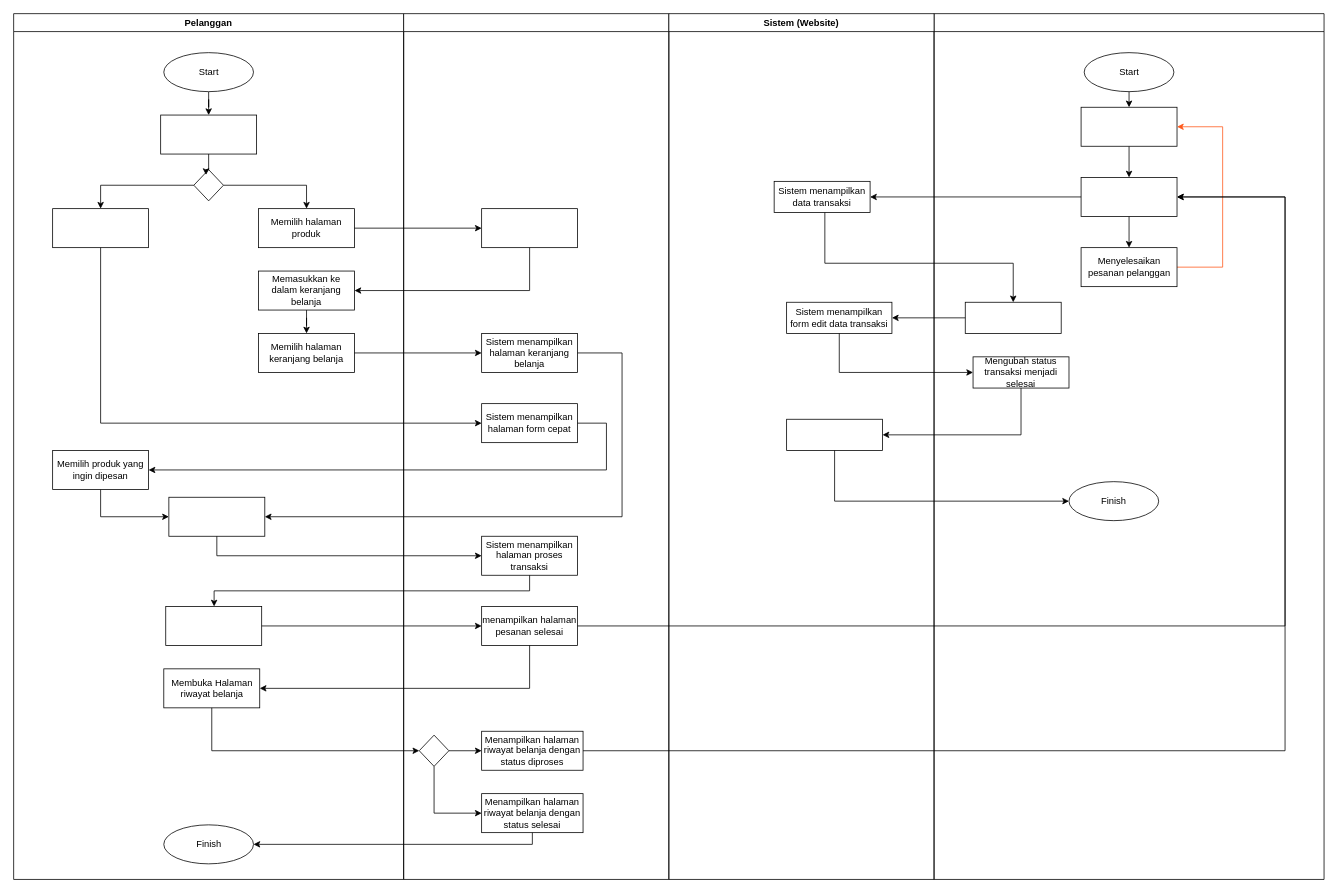
This 1338x893 diagram has some shape labels left out. The box of each missing label's shape, as (x1, y1, x2, y2) in pixels:
Melakukan pemesanan produk di aplikasi: (160, 114, 257, 154)
Membuka Halaman Transaksi: (1080, 177, 1177, 216)
Membuka website: (1080, 106, 1177, 146)
Memilih halaman form belanja cepat: (52, 208, 149, 248)
Menekan button checkout: (168, 496, 265, 536)
Menekan button edit data: (964, 301, 1061, 333)
Mengisi data transaksi dan menekan button pesan sekarang: (165, 606, 262, 645)
Pemilik Toko: (933, 13, 1324, 879)
Sistem (aplikasi): (403, 13, 669, 879)
Sistem melakukan validasi data: (786, 418, 883, 450)
Sistem menampilkan halaman produk: (481, 208, 578, 248)
